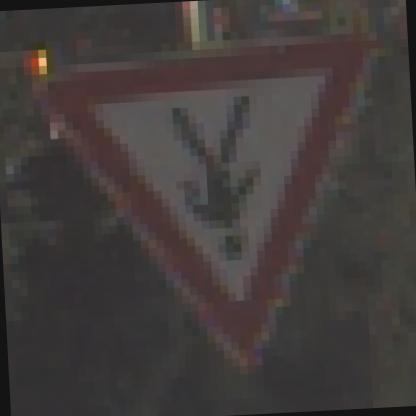crosswalk: (20, 22, 396, 388)
